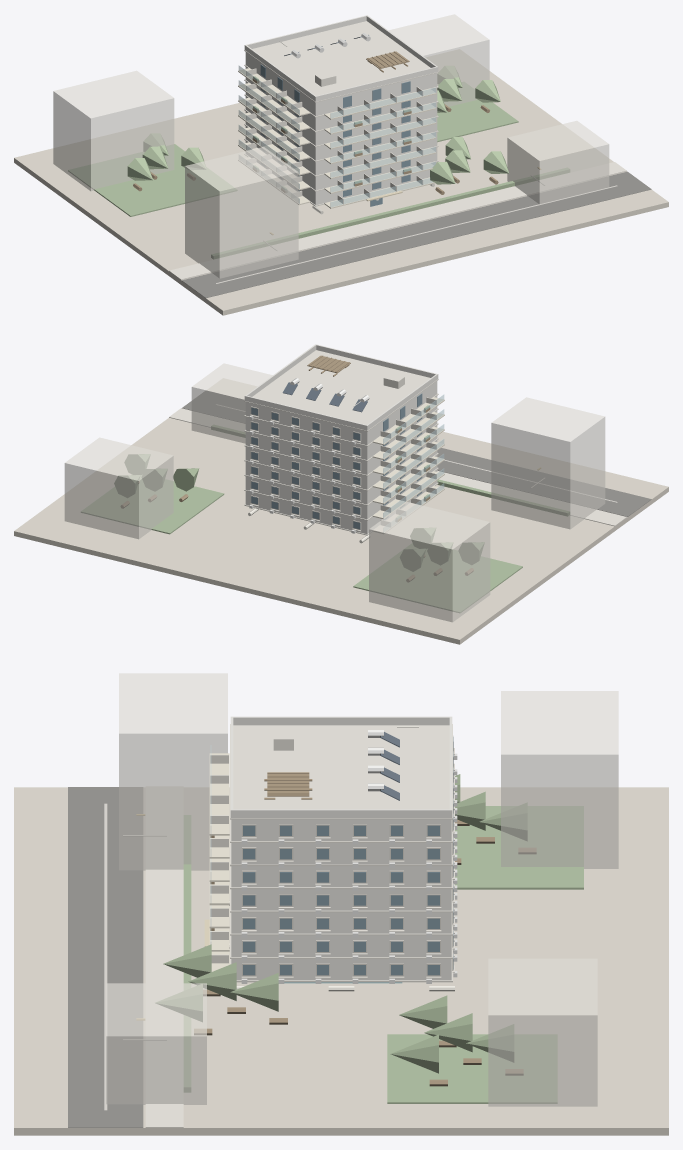
File: standard-residential.glb
The picture shows the model from 3 angles, top to bottom: view 1: azimuth 30°, elevation 25°; view 2: azimuth 150°, elevation 25°; view 3: azimuth 270°, elevation 25°; orthographic projection. The views are drawn at different scales.
Visible parts, largest first — view 1: site, sctx2, sctx0, road, body, slab8, sctx3, walk, green1, sctx1, green2, hedge (+31 smaller); view 2: site, sctx2, sctx0, body, sctx1, slab8, road, green1, green2, sctx3, walk, hedge (+12 smaller); view 3: site, body, road, sctx0, sctx2, slab8, sctx1, walk, sctx3, green2, green1, par_w (+15 smaller).
Boxes of the visible parts, <box> form: site: <box>14,49,668,315</box>; sctx2: <box>185,147,298,278</box>; sctx0: <box>53,70,174,191</box>; road: <box>182,171,651,298</box>; body: <box>245,52,437,204</box>; slab8: <box>244,21,438,102</box>; sctx3: <box>507,121,609,204</box>; walk: <box>169,162,626,279</box>; green1: <box>68,144,237,216</box>; sctx1: <box>388,14,489,106</box>; green2: <box>437,82,518,142</box>; hedge: <box>211,168,569,259</box>; site: <box>14,378,668,644</box>; sctx2: <box>491,397,605,529</box>; sctx0: <box>369,502,490,622</box>; body: <box>245,381,437,533</box>; sctx1: <box>64,437,173,539</box>; slab8: <box>244,350,438,431</box>; road: <box>182,391,651,516</box>; green1: <box>353,543,522,612</box>; green2: <box>81,474,224,534</box>; sctx3: <box>191,363,272,443</box>; walk: <box>169,408,626,526</box>; hedge: <box>211,425,569,516</box>; site: <box>14,787,668,1135</box>; body: <box>231,819,451,980</box>; road: <box>68,787,143,1127</box>; sctx0: <box>501,691,618,868</box>; sctx2: <box>119,673,227,870</box>; slab8: <box>230,724,452,819</box>; sctx1: <box>488,958,597,1106</box>; walk: <box>145,786,183,1127</box>; sctx3: <box>106,983,206,1104</box>; green2: <box>387,1034,557,1103</box>; green1: <box>455,806,583,889</box>; par_w: <box>233,716,449,725</box>.
Bounding box in the file's own units: 96 × 27.66 × 78.
